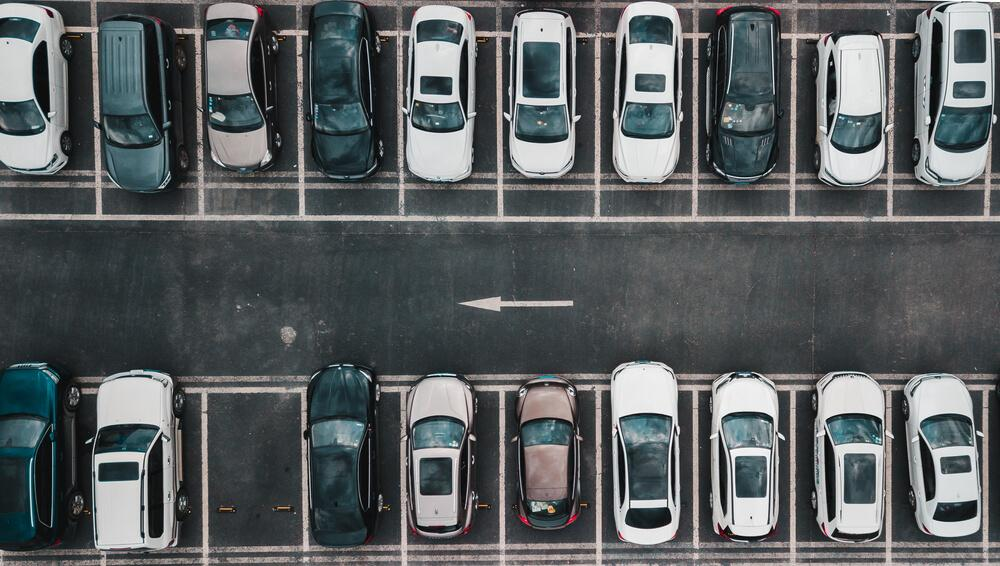occupied: (94, 30, 201, 217), (198, 32, 302, 218), (300, 33, 402, 218), (400, 34, 501, 219), (793, 36, 893, 219), (695, 35, 794, 219), (500, 35, 598, 219), (598, 35, 696, 219), (403, 388, 502, 548), (304, 390, 404, 548), (598, 388, 696, 545), (695, 388, 793, 545), (888, 388, 986, 545), (502, 388, 599, 546), (793, 388, 889, 545)
vacant: (204, 390, 306, 549)
